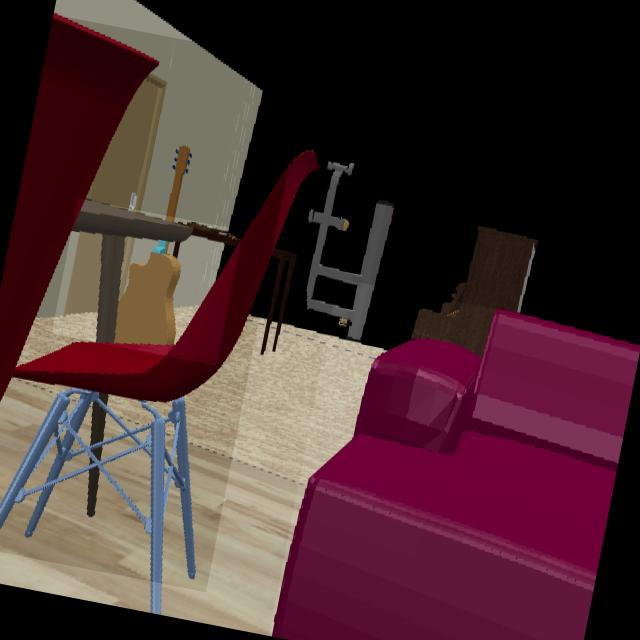chair: (0, 15, 289, 584)
sofa: (269, 311, 640, 640)
table: (71, 200, 240, 344)
